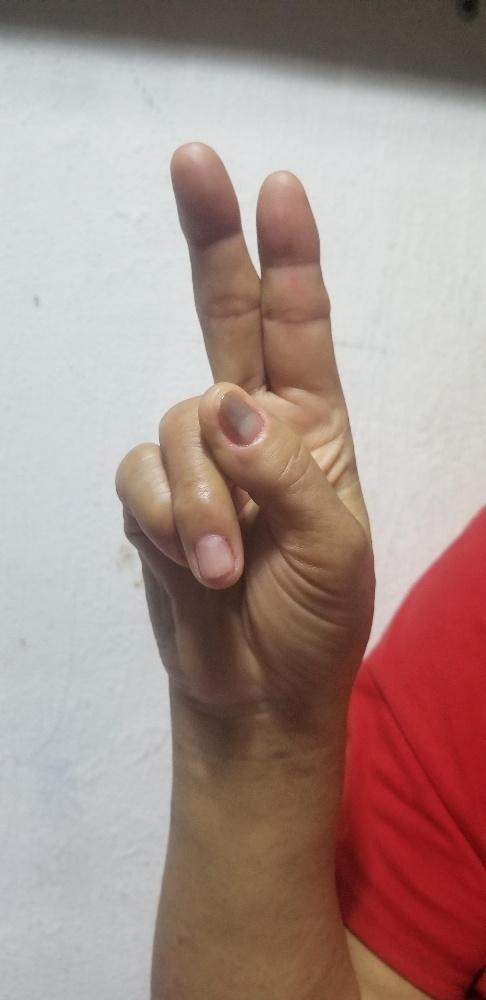u: (112, 141, 377, 695)
